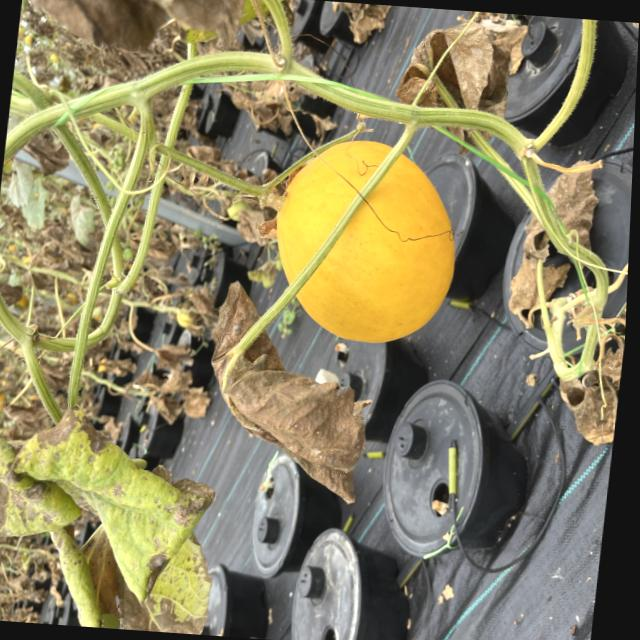bacterial wilt: (0, 408, 242, 635), (190, 280, 386, 521), (398, 5, 540, 111)
